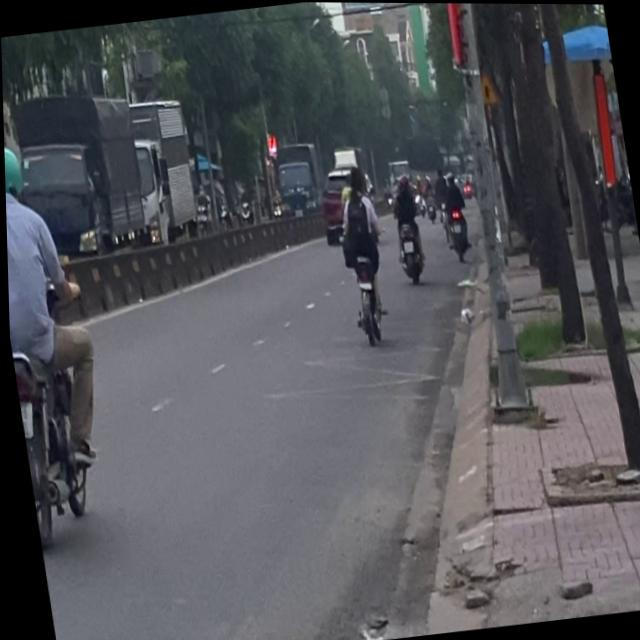helmet: (3, 141, 25, 202)
licenseplate: (3, 131, 117, 553)
nohelmet: (17, 398, 32, 434)
